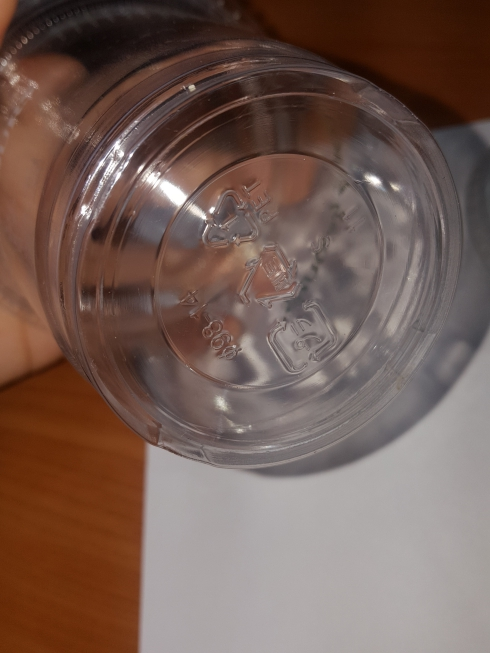recycle: (199, 174, 275, 249)
